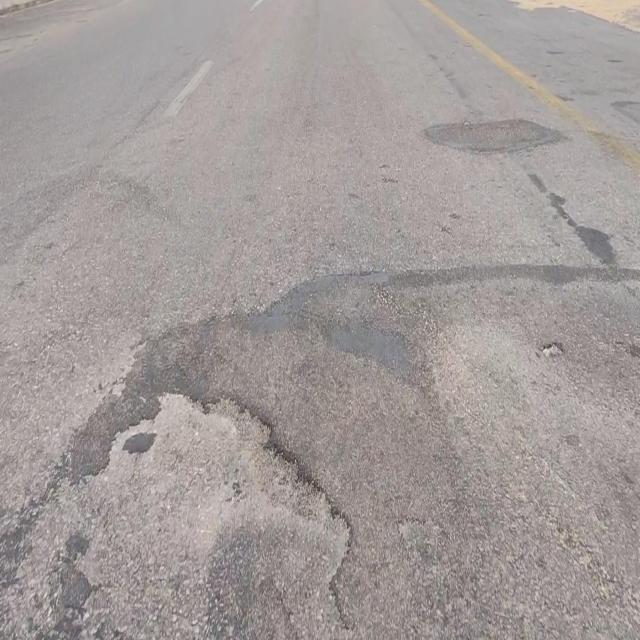Potholes: (63, 391, 351, 640)
